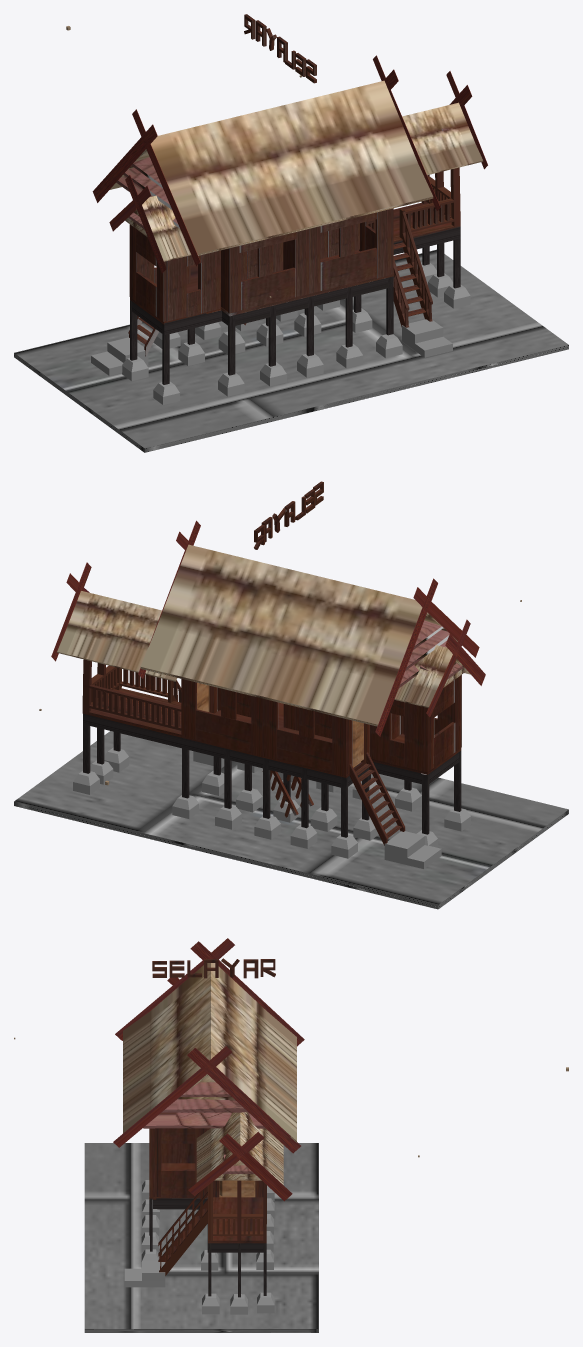
Rendered from Rumah Adat Selayar - Copy.glb.
The picture shows the model from 3 angles, top to bottom: view 1: azimuth 30°, elevation 25°; view 2: azimuth 150°, elevation 25°; view 3: azimuth 270°, elevation 25°; orthographic projection. The views are drawn at different scales.
Parts seen in each view (by area): view 1: Cube.135, Cube.056, Cube.102, Cube.161, Cube.063, Cube.160, Cube.164, Cube.003, Cube.019, Cube.136, Cube.047, Cube.044 (+14 smaller); view 2: Cube.135, Cube.056, Cube.161, Cube.063, Cube.102, Cube.164, Cube.160, Cube.024, Cube.029, Cube.137, Cube.051, Cube.174 (+12 smaller); view 3: Cube.135, Cube.056, Cube.161, Cube.163, Cube.063, Cube.171, Cube.160, Cube.077, Cube.169, Cube.102, Cube.080, Cube.136 (+7 smaller).
Part boxes in pixels (bbox=[...]): Cube.135: bbox=[14, 249, 568, 452]; Cube.056: bbox=[66, 26, 433, 255]; Cube.102: bbox=[131, 226, 460, 335]; Cube.161: bbox=[299, 75, 483, 175]; Cube.063: bbox=[393, 167, 460, 327]; Cube.160: bbox=[92, 109, 200, 266]; Cube.164: bbox=[125, 195, 271, 297]; Cube.003: bbox=[320, 247, 376, 290]; Cube.019: bbox=[241, 267, 295, 310]; Cube.136: bbox=[402, 319, 452, 357]; Cube.047: bbox=[166, 256, 186, 321]; Cube.044: bbox=[199, 250, 220, 313]; Cube.135: bbox=[14, 731, 568, 909]; Cube.056: bbox=[105, 544, 462, 785]; Cube.161: bbox=[39, 591, 177, 710]; Cube.063: bbox=[82, 661, 426, 774]; Cube.102: bbox=[83, 713, 459, 787]; Cube.164: bbox=[394, 600, 521, 707]; Cube.160: bbox=[375, 578, 479, 736]; Cube.024: bbox=[195, 709, 251, 753]; Cube.029: bbox=[277, 728, 332, 771]; Cube.137: bbox=[384, 831, 441, 868]; Cube.051: bbox=[404, 702, 424, 771]; Cube.174: bbox=[426, 619, 485, 716]; Cube.135: bbox=[84, 1143, 318, 1332]; Cube.056: bbox=[123, 963, 568, 1142]; Cube.161: bbox=[196, 1112, 419, 1184]; Cube.163: bbox=[113, 1046, 300, 1153]; Cube.063: bbox=[172, 1185, 266, 1243]; Cube.171: bbox=[188, 1132, 292, 1201]; Cube.160: bbox=[115, 938, 304, 1046]; Cube.077: bbox=[143, 1112, 265, 1128]; Cube.169: bbox=[158, 1199, 207, 1275]; Cube.102: bbox=[150, 1197, 263, 1252]; Cube.080: bbox=[161, 1099, 247, 1112]; Cube.136: bbox=[124, 1260, 165, 1287].
Size of the model in its own units: 300 by 210 by 379.
Materials: 124 (122 with a texture image).
